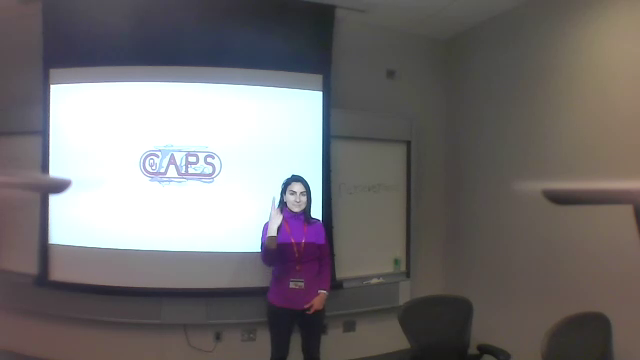up: (265, 193, 284, 229)
